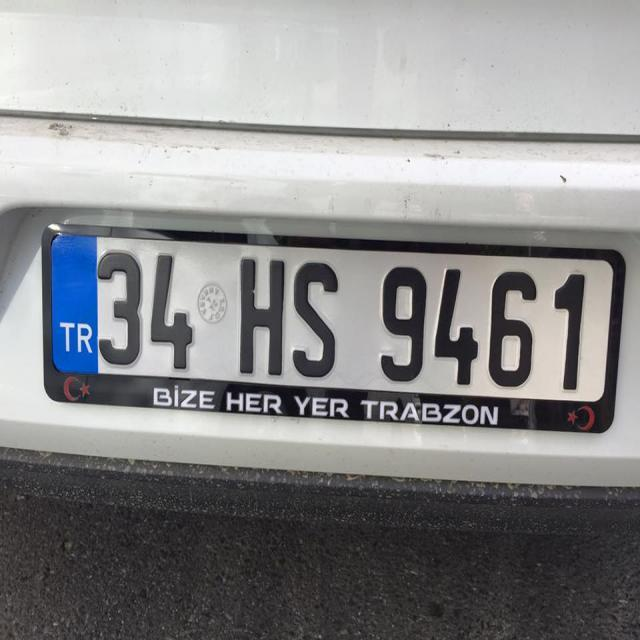plate: (44, 225, 627, 434)
